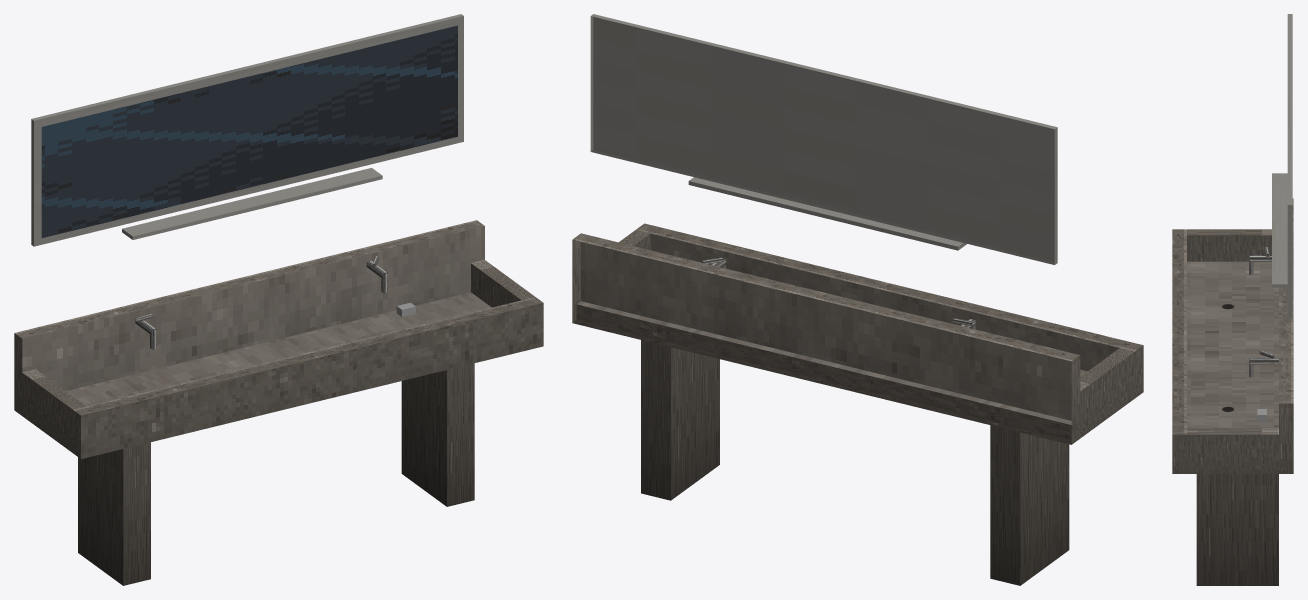
Rendered from prop_hallsink-20-3.glb.
The picture shows the model from 3 angles, left to right: view 1: azimuth 30°, elevation 25°; view 2: azimuth 150°, elevation 25°; view 3: azimuth 270°, elevation 25°; orthographic projection. The views are drawn at different scales.
Parts seen in each view (by area): view 1: prop_hallsink-20-3; view 2: prop_hallsink-20-3; view 3: prop_hallsink-20-3.
Part boxes in pixels (<box>): prop_hallsink-20-3: <box>14,14,543,585</box>; prop_hallsink-20-3: <box>572,14,1143,585</box>; prop_hallsink-20-3: <box>1172,14,1293,585</box>.
Size of the model in its own units: 2 by 1.81 by 0.5.
5 materials, 5 textured.
